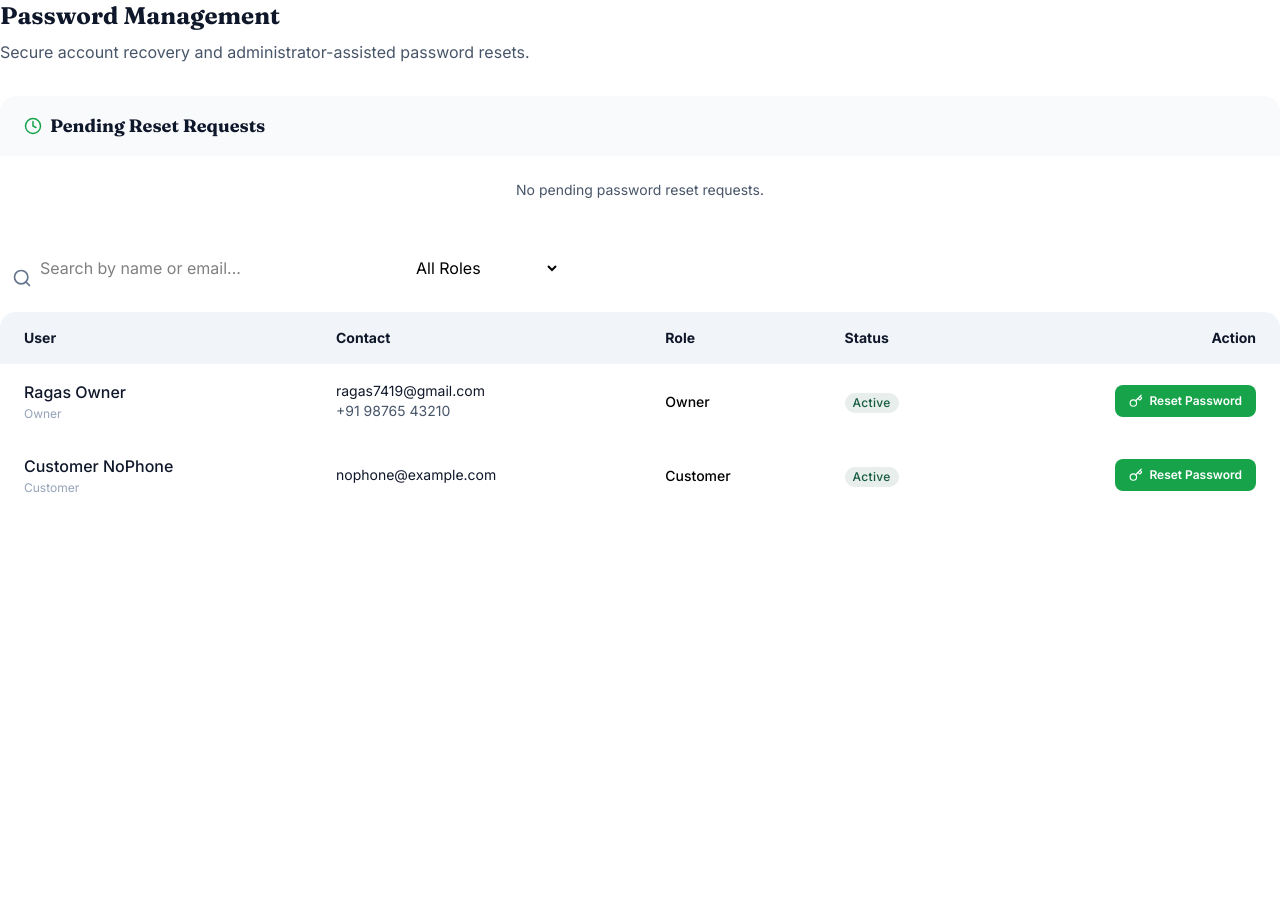
it: AdminPasswords component › generates reset link and displays result state with Copy button
Click the button "Reset Password" in the row of "Ragas Owner". click: click(1186, 401)
box: [1115,385,1256,417]
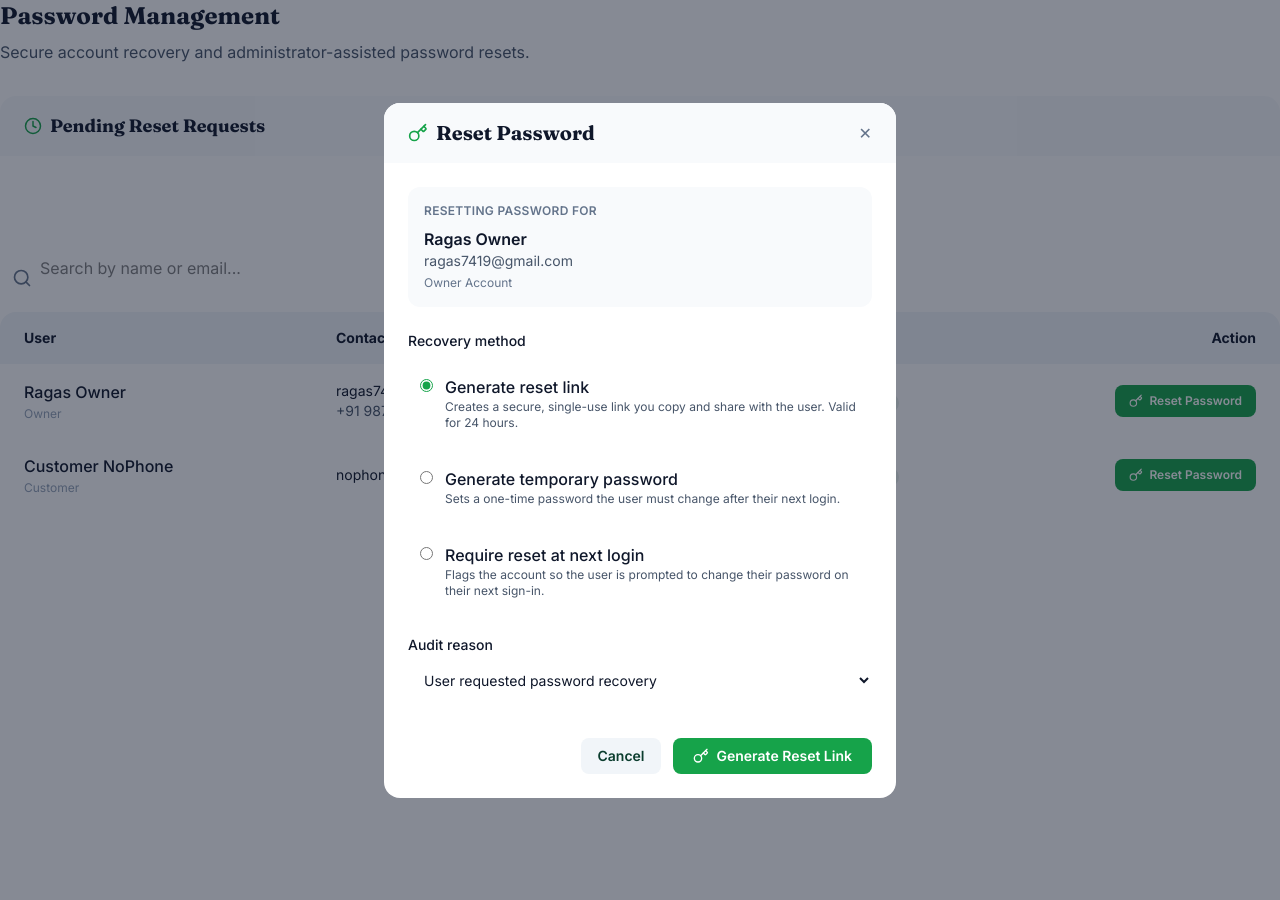
# Click Generate Reset Link
Click the button "Generate Reset Link". click: click(772, 756)
box: [672,738,872,774]
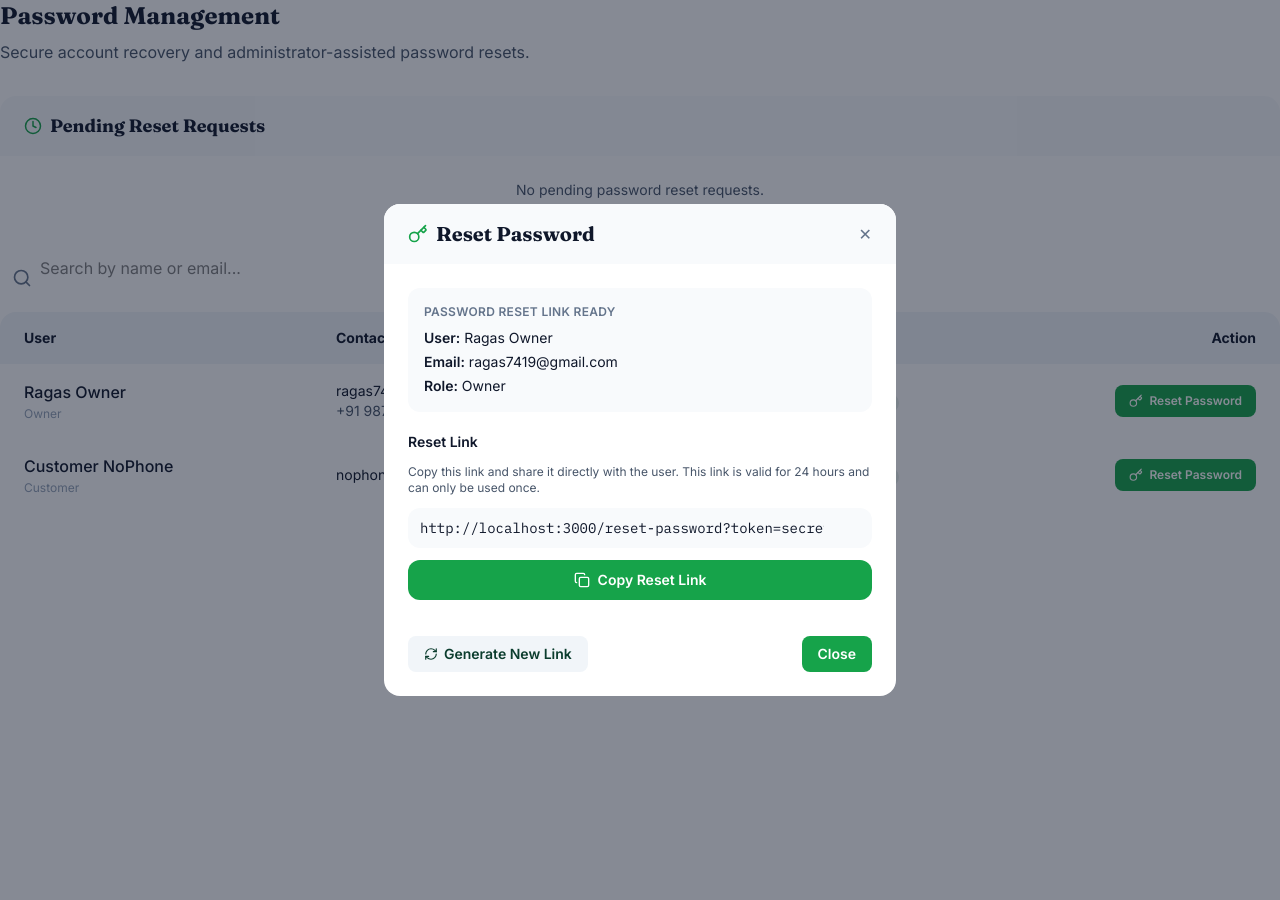
Expected: the text "Password Reset Link Ready" is shown, [424,304,616,319]
Expected: the field showing "http://localhost:3000/reset-password?token=secret-token-abc" is shown, [408,508,872,548]
# Copy link
Click the button "Copy Reset Link". click: click(640, 580)
box: [408,560,872,600]
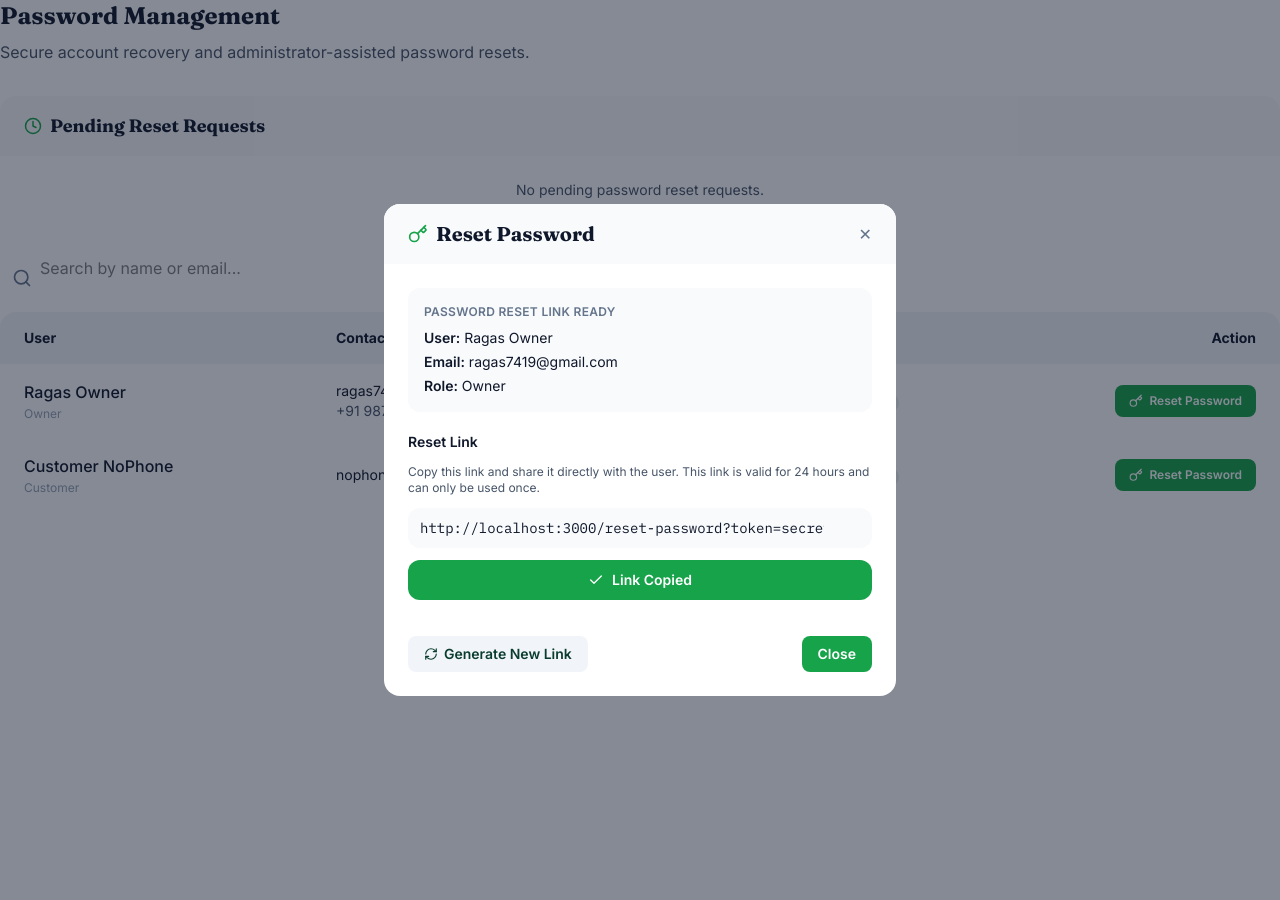
Expected: the button "Link Copied" is shown, [408,560,872,600]
